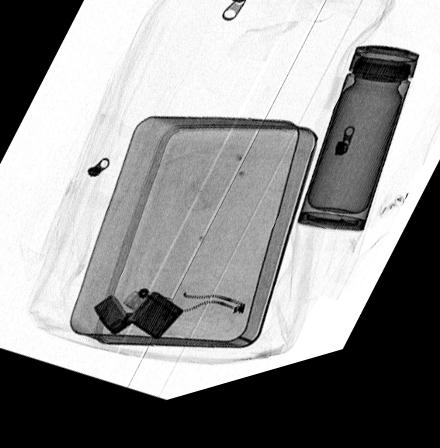Lighter: (92, 294, 186, 349)
